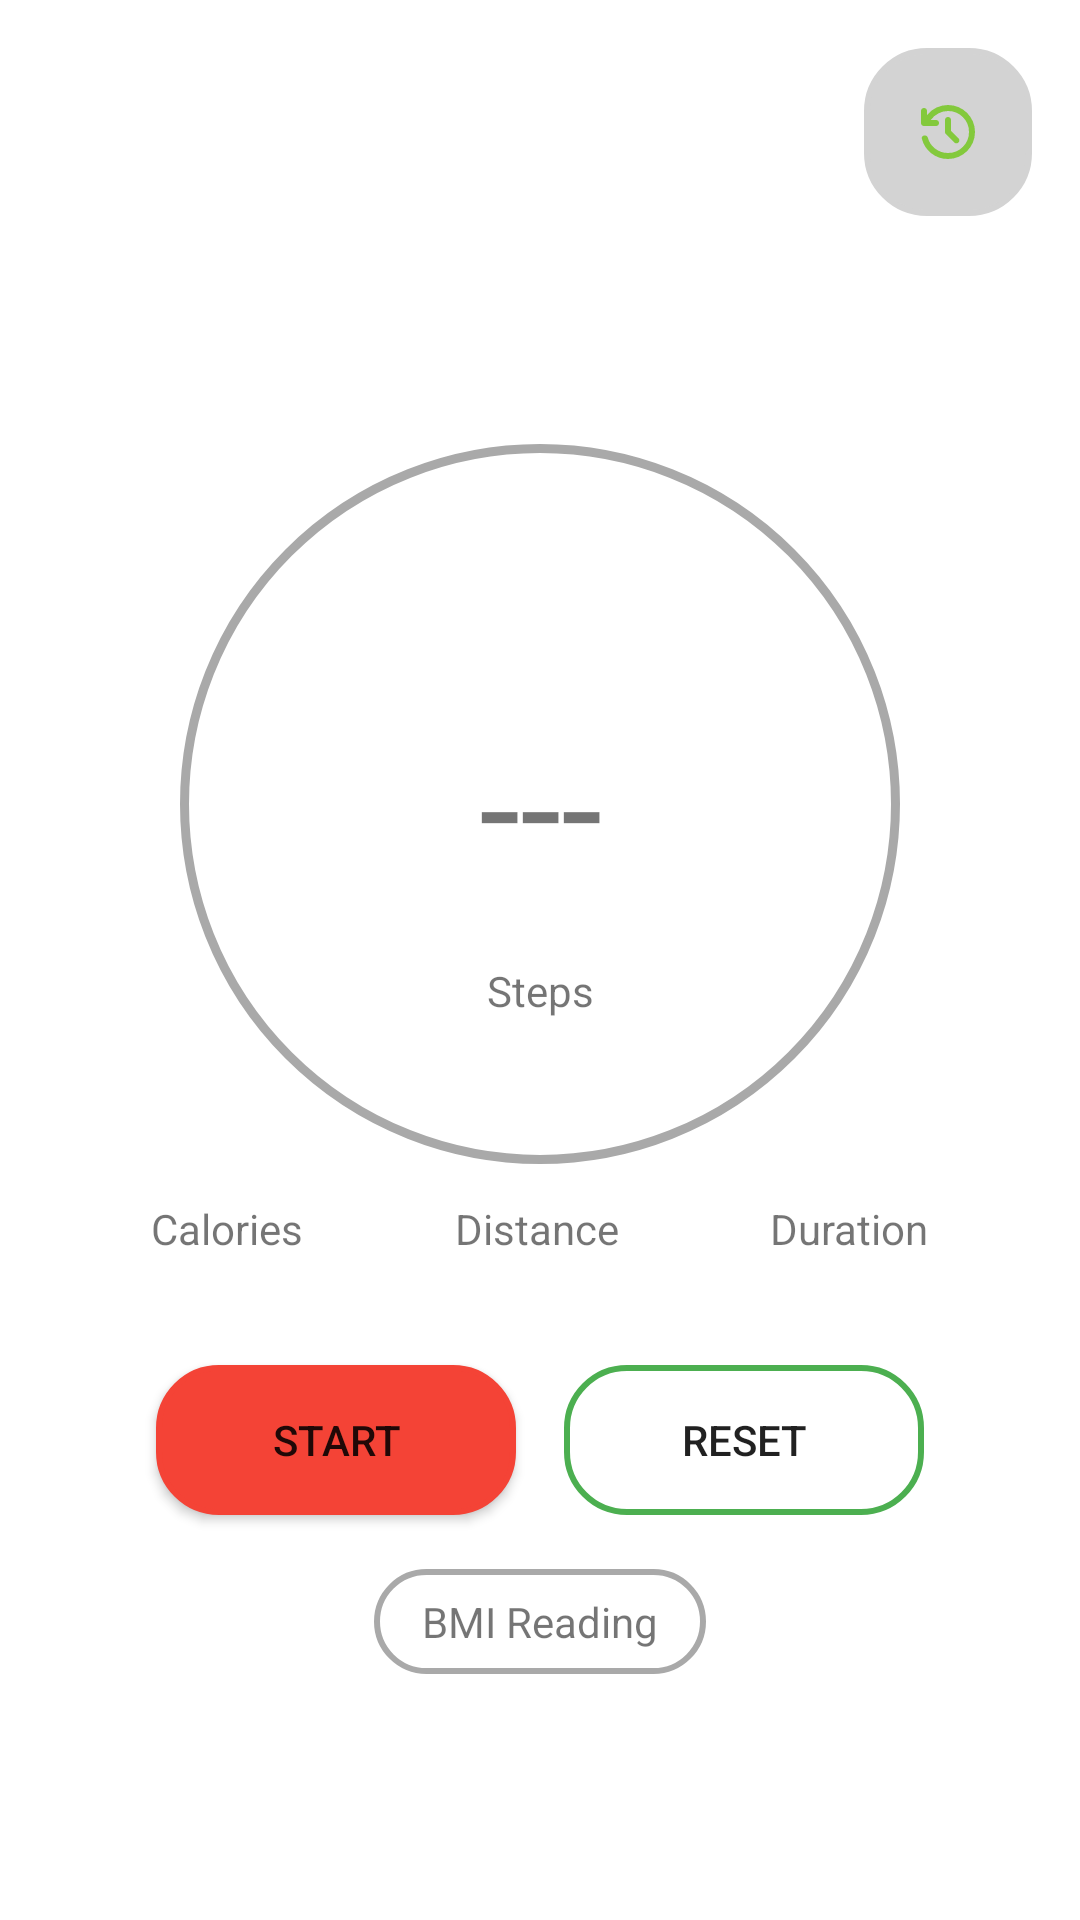

Screen size 1080*1920. Icon name, then its center in pixels as (x=x, y=y):
history: (x=948, y=132)
